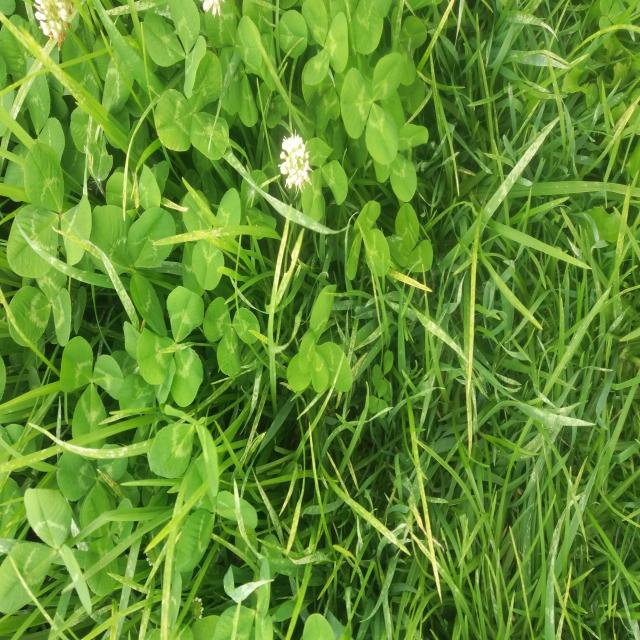Four Leaf Clover: (287, 283, 352, 392)
